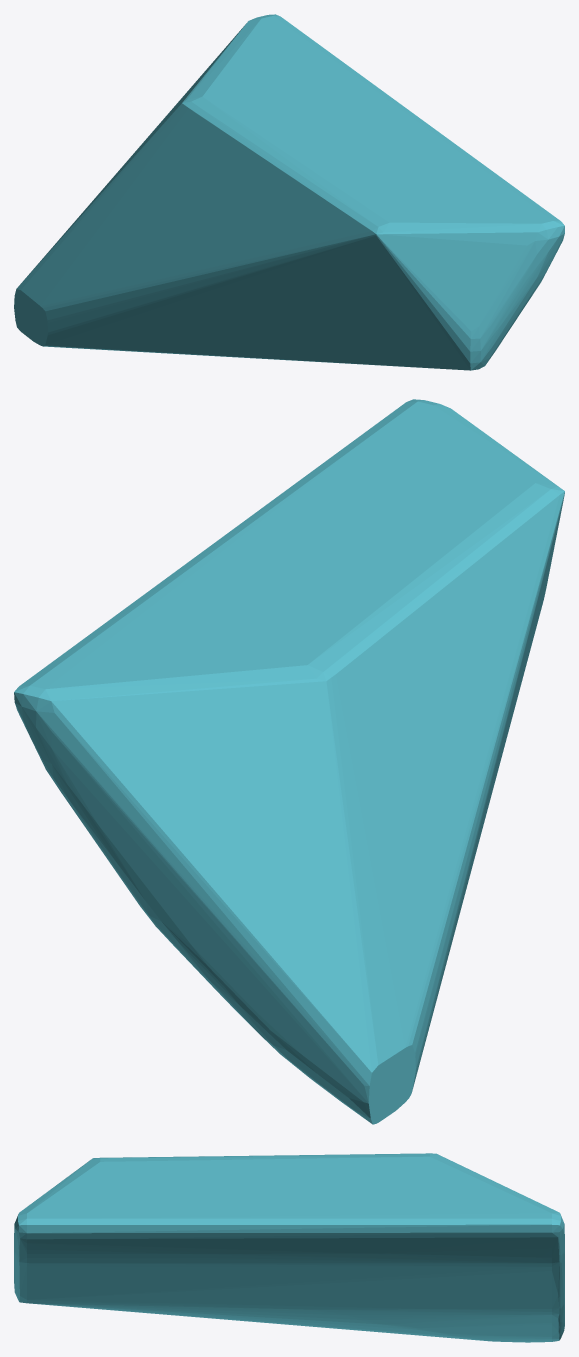
The model's file is right_shoulder_roll_link_part_2.obj.
3 renders of one model, top to bottom at view 1: azimuth 30°, elevation 25°; view 2: azimuth 150°, elevation 25°; view 3: azimuth 270°, elevation 25°, orthographic. The views are drawn at different scales.
Bounding box in the file's own units: 0.0228 × 0.0213 × 0.0445.
